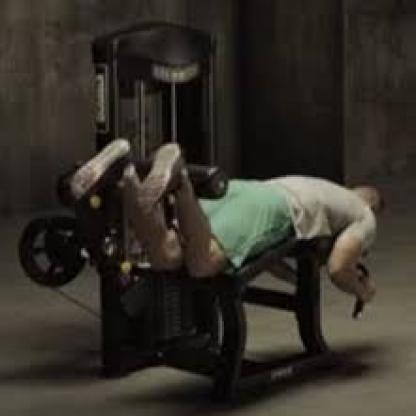reg curl machine: (13, 21, 405, 392)
